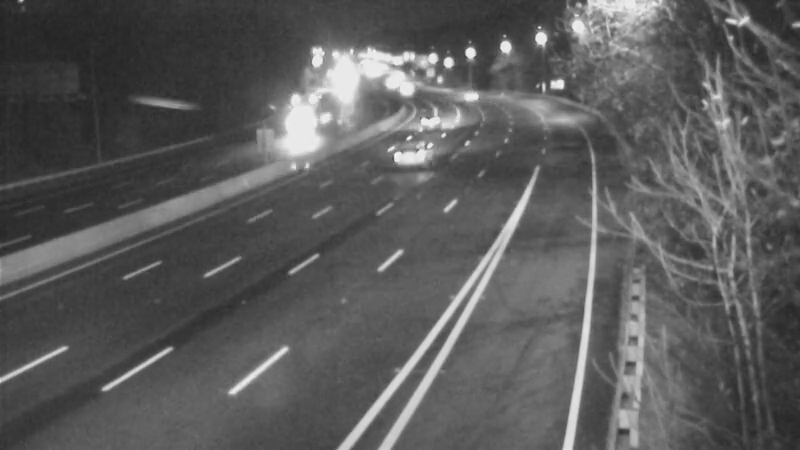vehicle: (372, 113, 452, 193), (450, 68, 500, 118), (403, 95, 453, 145), (273, 99, 323, 149)
